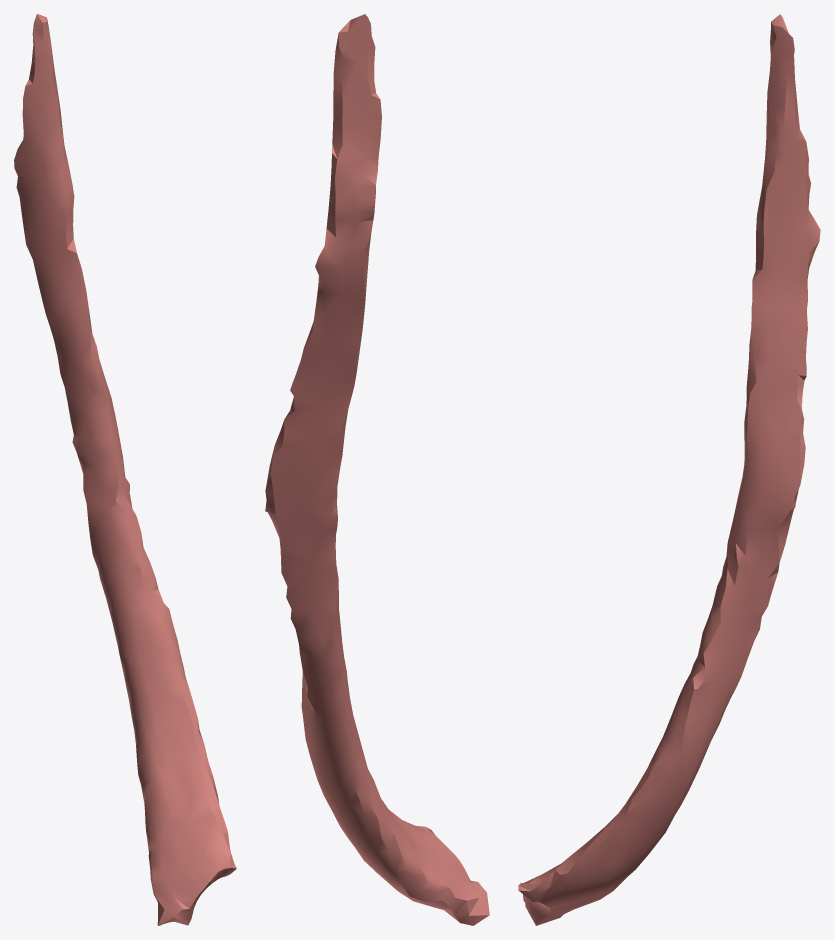
Rendered from fma51116-r_mm1763m.glb.
The picture shows the model from 3 angles, left to right: view 1: azimuth 30°, elevation 25°; view 2: azimuth 150°, elevation 25°; view 3: azimuth 270°, elevation 25°; orthographic projection. The views are drawn at different scales.
Visible parts, largest first — view 1: FMA51116-R_MM1763M; view 2: FMA51116-R_MM1763M; view 3: FMA51116-R_MM1763M.
Part boxes in pixels (x1=…): FMA51116-R_MM1763M: x1=14, y1=14, x2=236, y2=925; FMA51116-R_MM1763M: x1=265, y1=14, x2=489, y2=925; FMA51116-R_MM1763M: x1=518, y1=14, x2=820, y2=925.
Bounding box in the file's own units: 0.0138 × 0.0975 × 0.0299.
